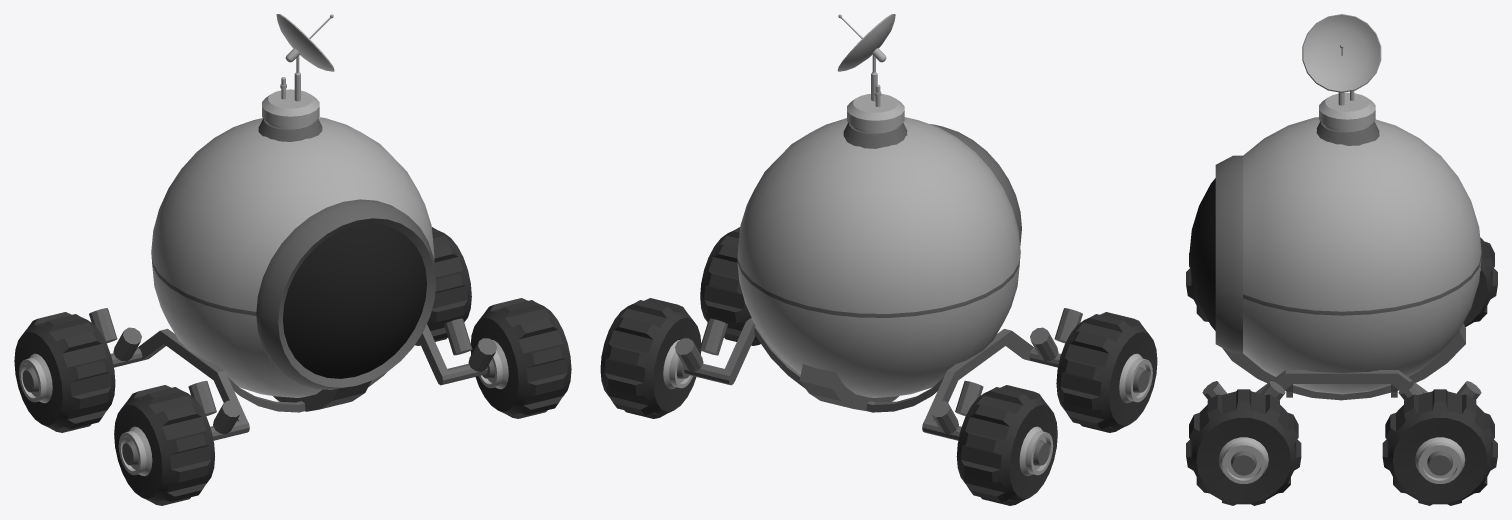
The model's file is Round Rover.glb.
3 views of the same model, side by side, from view 1: azimuth 30°, elevation 25°; view 2: azimuth 150°, elevation 25°; view 3: azimuth 270°, elevation 25° (orthographic).
Parts seen in each view (by area): view 1: Rover_Round, Wheel_2, Wheel_4, Wheel_3, Wheel_1; view 2: Rover_Round, Wheel_4, Wheel_2, Wheel_1, Wheel_3; view 3: Rover_Round, Wheel_1, Wheel_3, Wheel_4, Wheel_2.
Boxes of the visible parts, bbox=[...] form: Rover_Round: bbox=[89, 14, 496, 440]; Wheel_2: bbox=[114, 385, 214, 505]; Wheel_4: bbox=[14, 312, 115, 432]; Wheel_3: bbox=[470, 298, 571, 418]; Wheel_1: bbox=[415, 227, 471, 345]; Rover_Round: bbox=[675, 14, 1082, 440]; Wheel_4: bbox=[956, 385, 1057, 505]; Wheel_2: bbox=[1056, 312, 1157, 432]; Wheel_1: bbox=[600, 298, 701, 418]; Wheel_3: bbox=[700, 227, 760, 345]; Rover_Round: bbox=[1189, 14, 1481, 400]; Wheel_1: bbox=[1382, 389, 1497, 505]; Wheel_3: bbox=[1186, 389, 1301, 505]; Wheel_4: bbox=[1463, 237, 1497, 326]; Wheel_2: bbox=[1186, 252, 1208, 321].
Bounding box in the file's own units: 5.79 × 5.17 × 3.69.
1 material, 1 textured.
